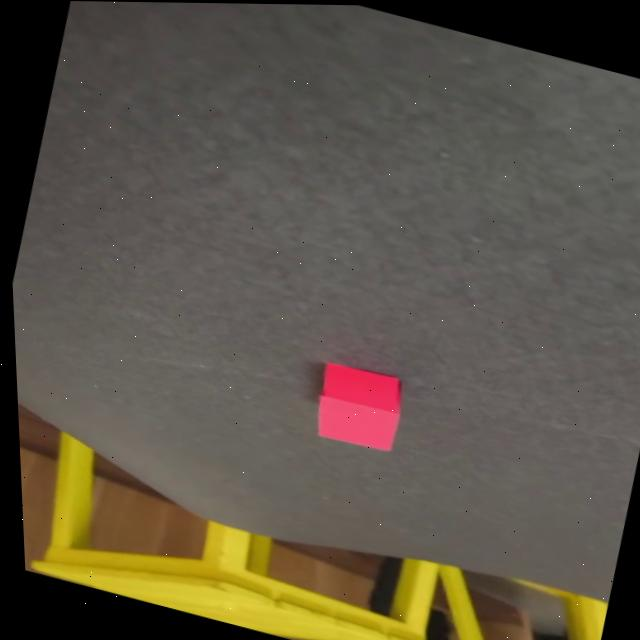red block: (304, 358, 411, 457)
